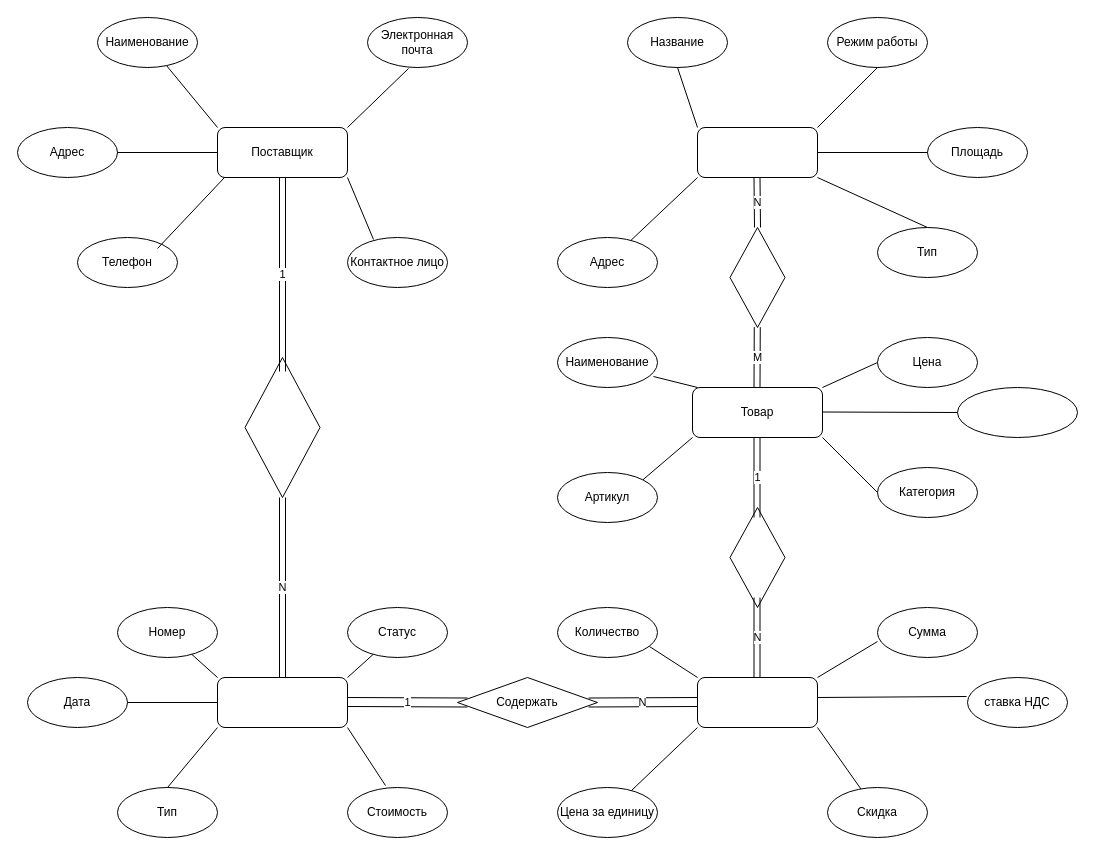
This 1095x855 diagram has some shape labels left out. Here are the shapes that lost their labels. From the top down, the centre of each, then its label:
At [757,152]: "Склад".
At [757,277]: "Хранить".
At [282,427]: "оформить".
At [1017,412]: "Производительность".
At [757,557]: "Указать".
At [282,702]: "Накладная".
At [757,702]: "Товар в накладной".
